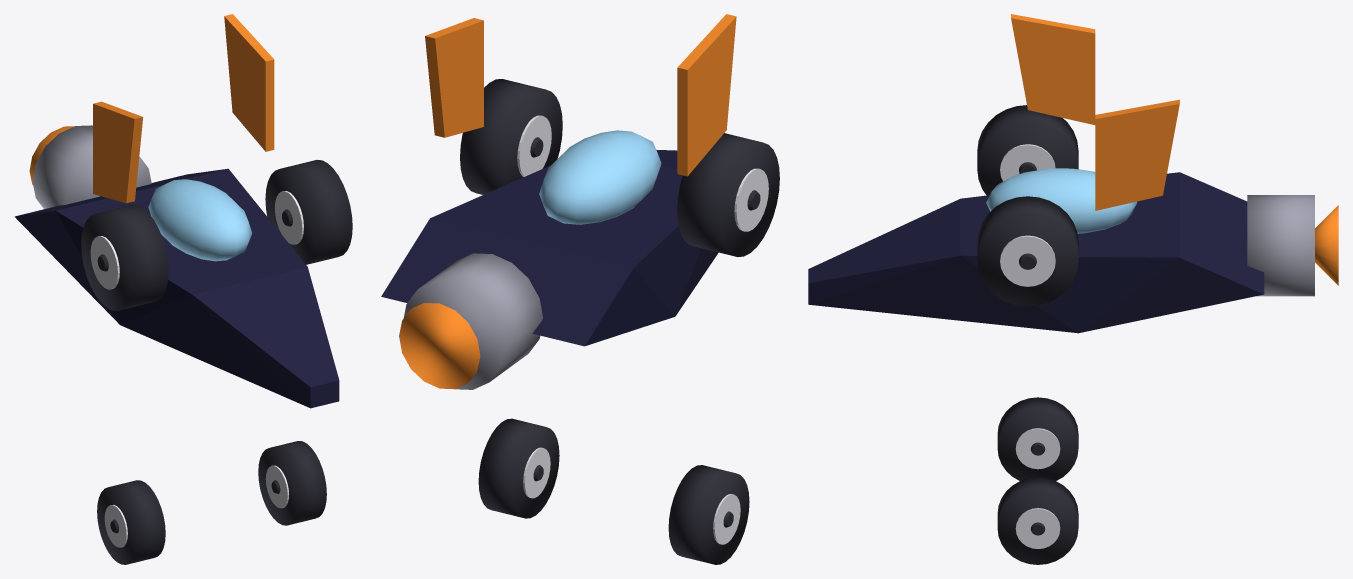
File: Car_Rocket.fbx
3 views of the same model, side by side, from view 1: azimuth 30°, elevation 25°; view 2: azimuth 150°, elevation 25°; view 3: azimuth 270°, elevation 25° (orthographic). The views are drawn at different scales.
Visible parts, largest first — view 1: Car_Rocket, Wheel_RL, Wheel_RR, Wheel_FL, Wheel_FR; view 2: Car_Rocket, Wheel_RL, Wheel_RR, Wheel_FR, Wheel_FL; view 3: Car_Rocket, Wheel_RR, Wheel_RL, Wheel_FR, Wheel_FL.
Boxes of the visible parts, <box> form: Car_Rocket: <box>14,14,339,408</box>; Wheel_RL: <box>81,204,168,310</box>; Wheel_RR: <box>265,160,352,264</box>; Wheel_FL: <box>97,480,165,564</box>; Wheel_FR: <box>258,441,326,525</box>; Car_Rocket: <box>381,14,736,389</box>; Wheel_RL: <box>677,133,779,256</box>; Wheel_RR: <box>460,79,562,194</box>; Wheel_FR: <box>478,418,559,518</box>; Wheel_FL: <box>668,465,749,564</box>; Car_Rocket: <box>808,14,1338,333</box>; Wheel_RR: <box>977,196,1078,306</box>; Wheel_RL: <box>977,105,1078,195</box>; Wheel_FR: <box>997,477,1078,564</box>; Wheel_FL: <box>997,397,1078,480</box>.
Bounding box in the file's own units: 0.8038 × 1.5 × 1.57.
